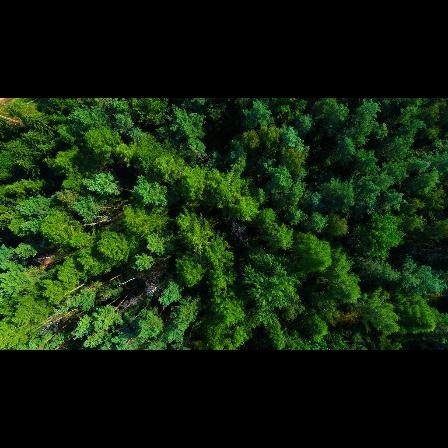Dead: (80, 211, 115, 233), (35, 315, 64, 336), (227, 223, 247, 242), (145, 275, 158, 299)
